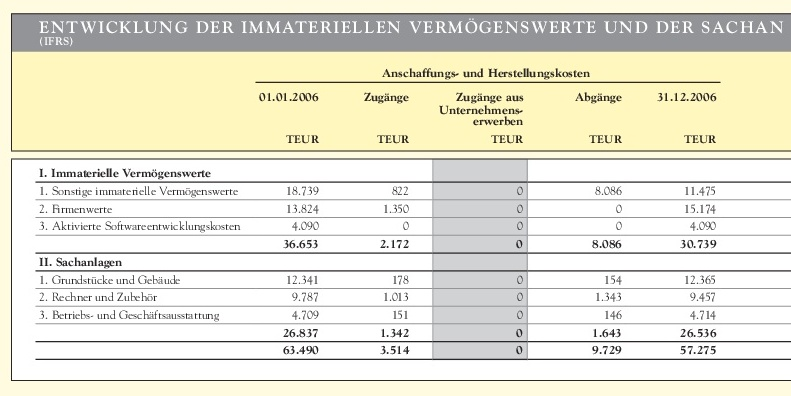table: (0, 0, 791, 396)
